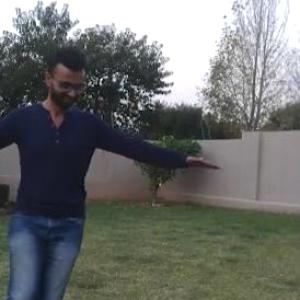land: (0, 66, 167, 299)
